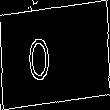O_N: (44, 28, 66, 82)
